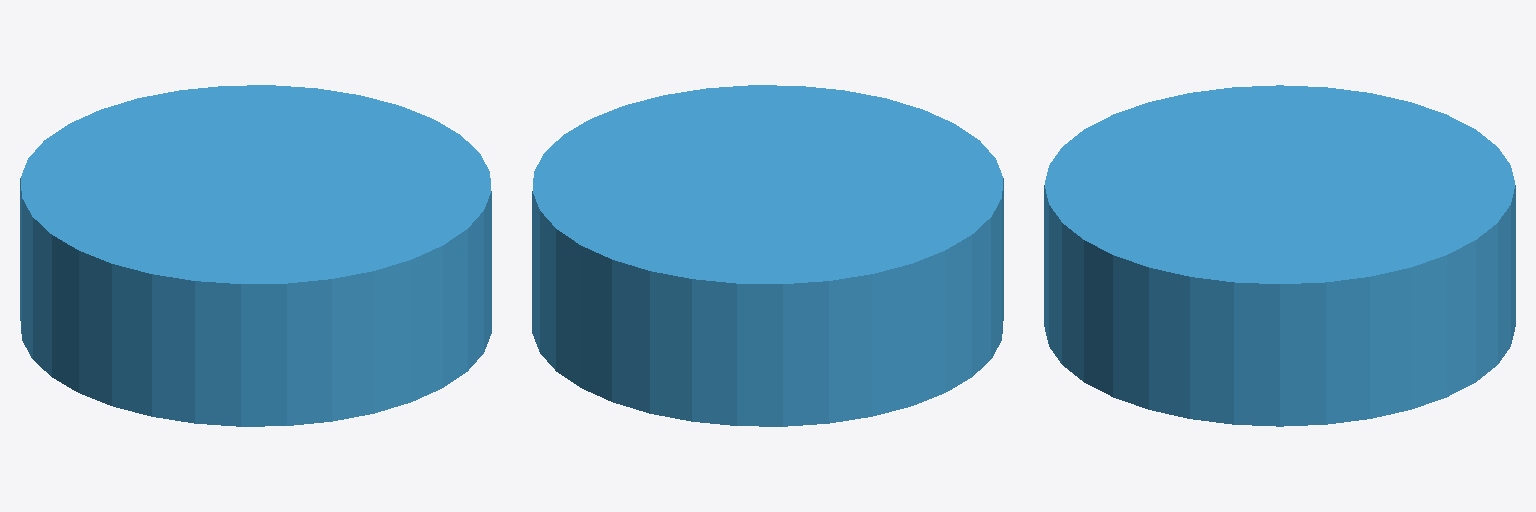
The robot description file, URDF, robot "d1_dog":
<?xml version="1.0"?>
<robot name="d1_dog">

<!-- 机器人的身体 -->
<link name="base_link">
  <visual>
    <origin xyz="0 0 0.15" rpy="0 0 1.57"/>
    <geometry>
      <mesh filename="package://d1_description/meshes/d1/d1.dae" scale="0.5 0.5 0.5"/>
    </geometry>
  </visual>
</link>

<!-- Lidar -->
<link name = "laser">
  <visual>
   <geometry>
      <cylinder length="0.02" radius="0.03"/>
   </geometry>
   <origin rpy = "0 0 0" xyz = "0 0 0"/>
  </visual>
</link>
<joint name="laser_joint" type="fixed">
    <origin rpy="0 0 3.1415926" xyz="0.15 0 0.25"  /> <!--pos-->
    <parent link="base_link" />
    <child link="laser" />
</joint>

</robot>

--- What the picture shows (computed from the rendered views, not written in the file) ---
Views: 3 orthographic renders of the robot side by side, from view 1: azimuth 30°, elevation 25°; view 2: azimuth 150°, elevation 25°; view 3: azimuth 270°, elevation 25°.
Model d1_dog with 2 links and 1 joints (1 fixed), rooted at base_link, posed every joint at zero.
Visible links, largest first — view 1: laser; view 2: laser; view 3: laser.
Boxes of the visible links, bbox=[...] form: laser: bbox=[20, 85, 491, 426]; laser: bbox=[532, 85, 1003, 426]; laser: bbox=[1044, 85, 1515, 426].
Size in the robot's own frame: 0.06 by 0.06 by 0.02 metres.
0 mesh visuals loaded from 1 distinct referenced files (none loaded); not drawn: 1 (reference not matched to a file when rendering).
